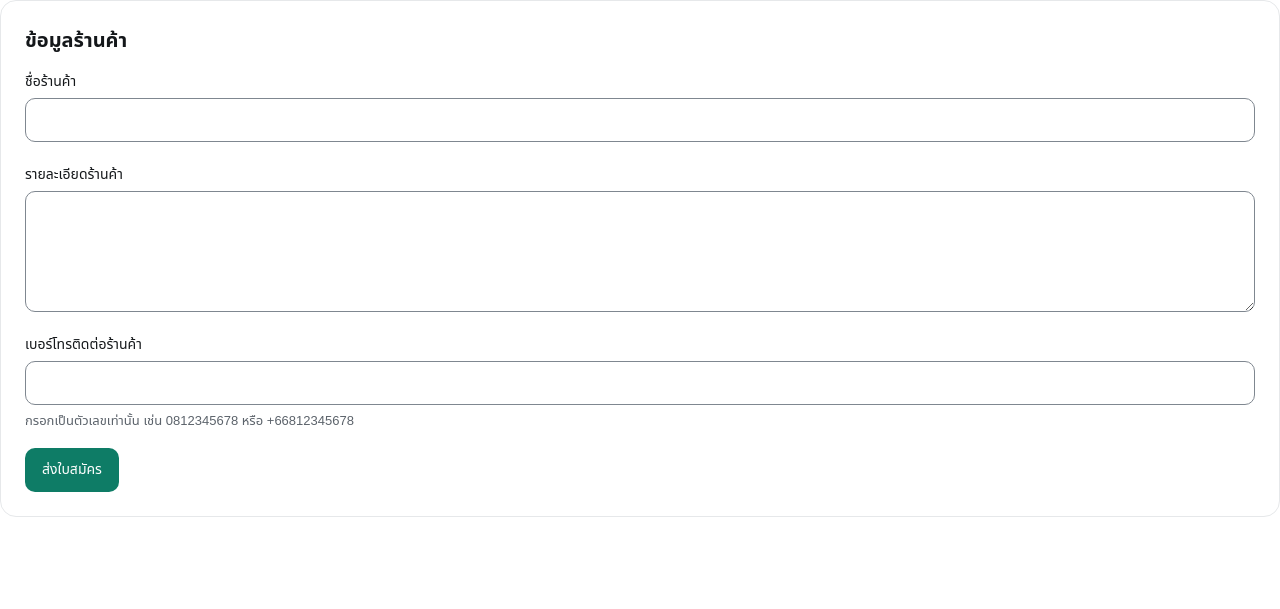
ApplicationForm › maps a store-name conflict to Thai copy
Type "ร้านทดสอบ" into the field labelled "ชื่อร้านค้า" at (640, 120), box x1=25 y1=98 x2=1255 y2=142
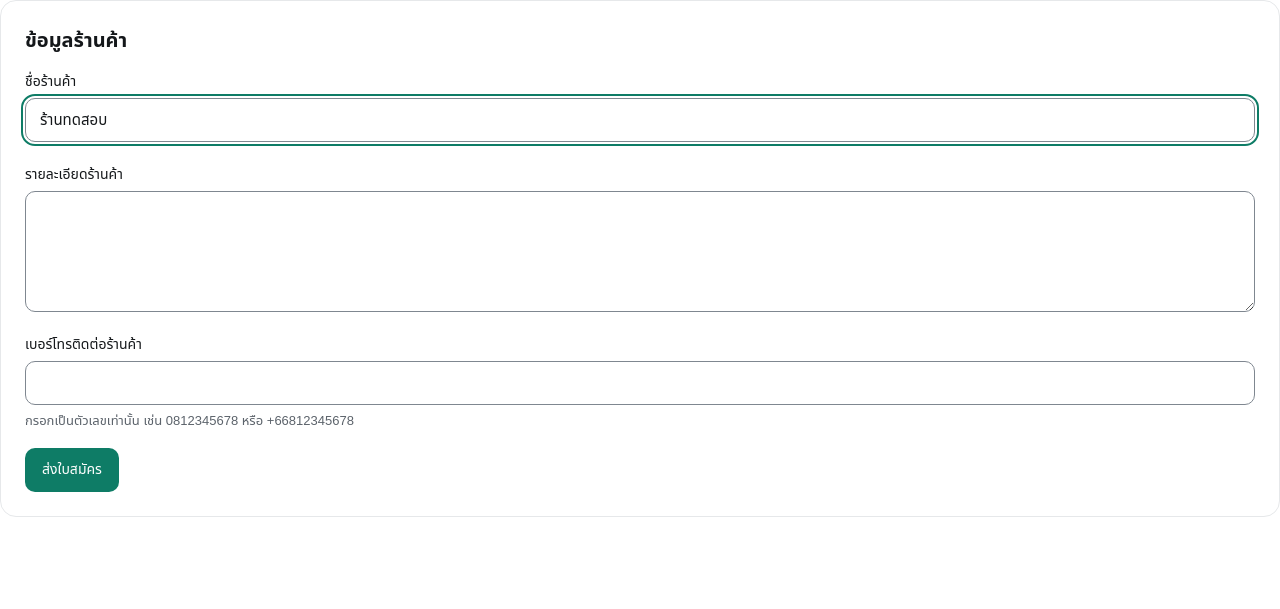
Type "ขายของ" into the text box labelled "รายละเอียดร้านค้า" at (640, 252), box x1=25 y1=191 x2=1255 y2=312
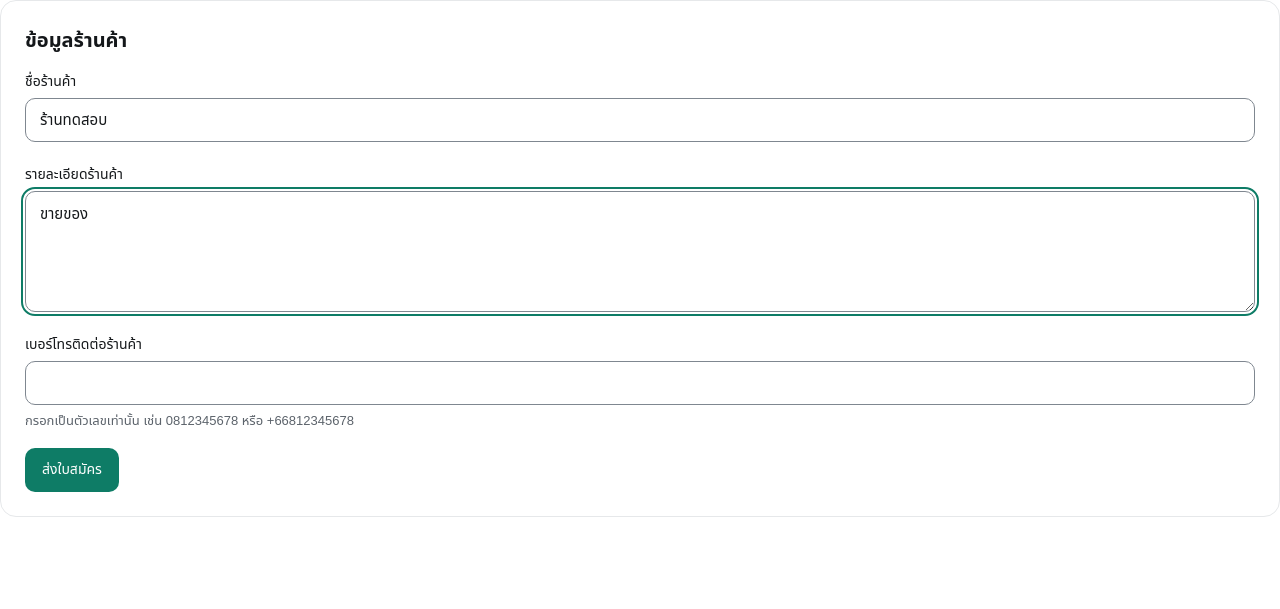
Type "0812345678" into the field labelled "เบอร์โทรติดต่อร้านค้า" at (640, 383), box x1=25 y1=361 x2=1255 y2=405
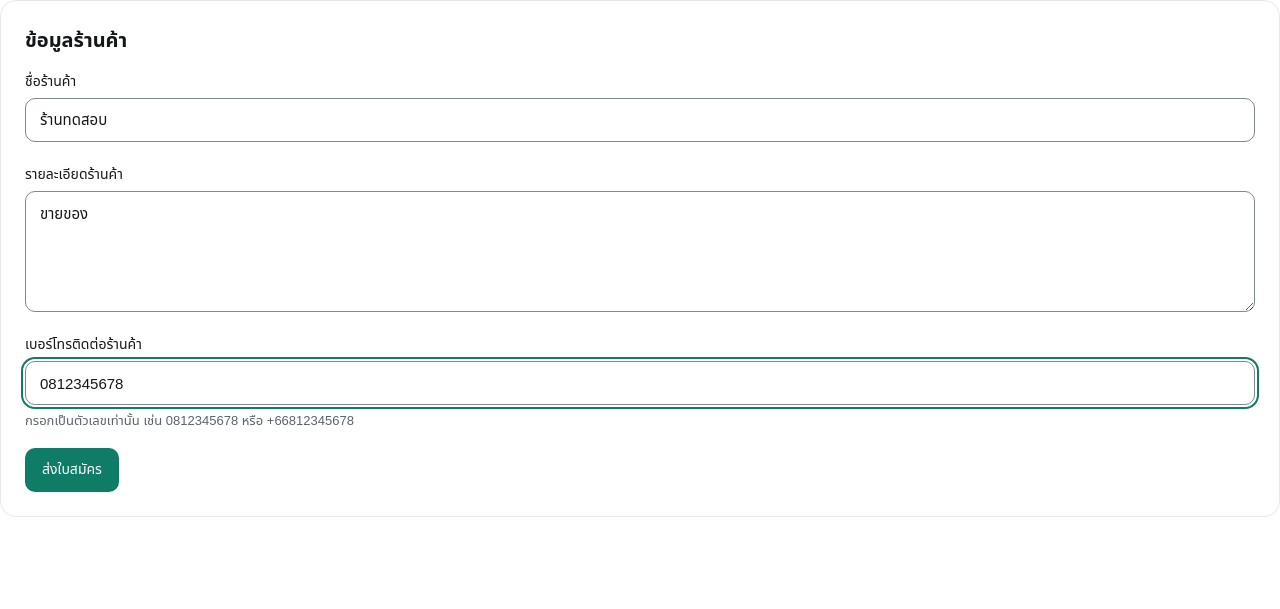
Click the button "ส่งใบสมัคร" at (72, 470), box x1=25 y1=448 x2=119 y2=492
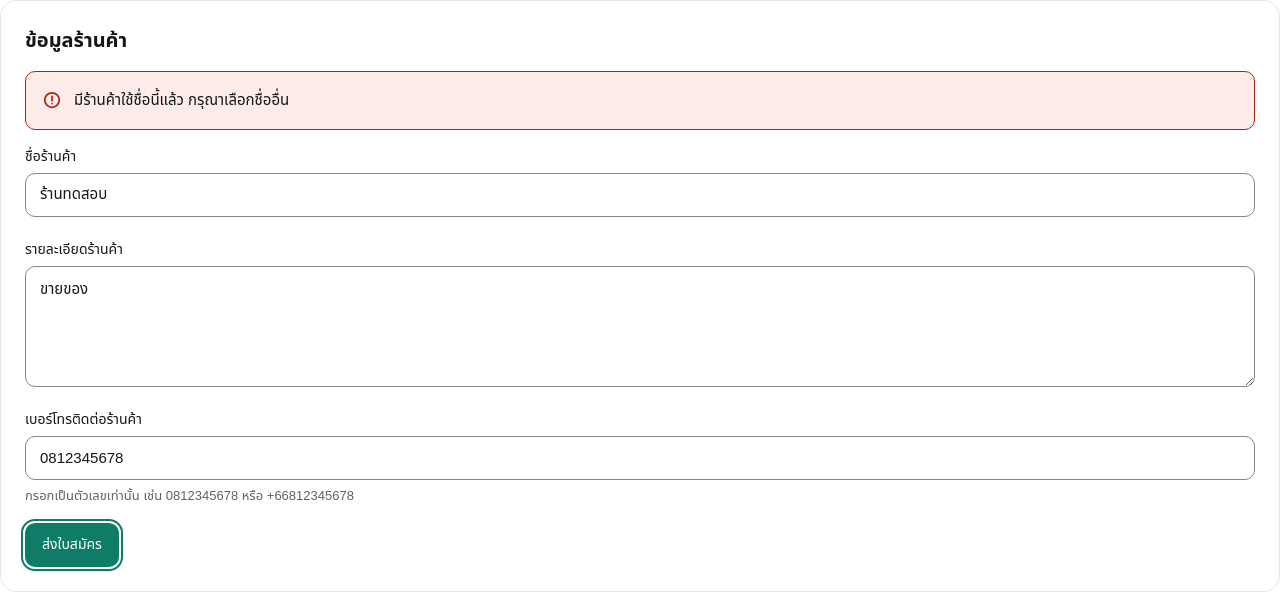
Expected: the button "ส่งใบสมัคร" is enabled, x1=25 y1=522 x2=119 y2=566
Expected: the text "มีร้านค้าใช้ชื่อนี้แล้ว กรุณาเลือกชื่ออื่น" is shown, x1=74 y1=91 x2=289 y2=108
